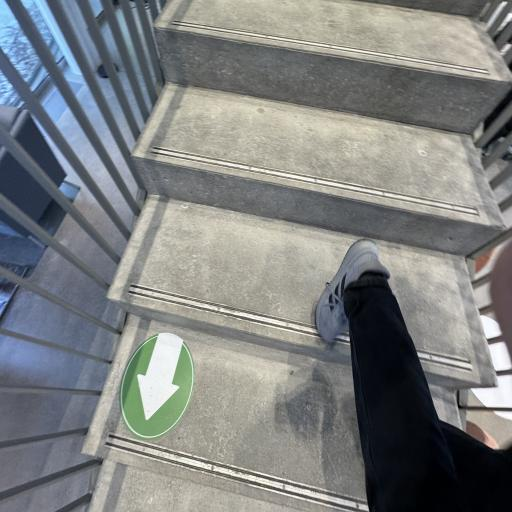Stairs: (83, 0, 512, 512), (108, 196, 495, 388), (83, 315, 460, 512), (132, 84, 504, 255), (155, 0, 511, 134), (364, 0, 488, 17)
